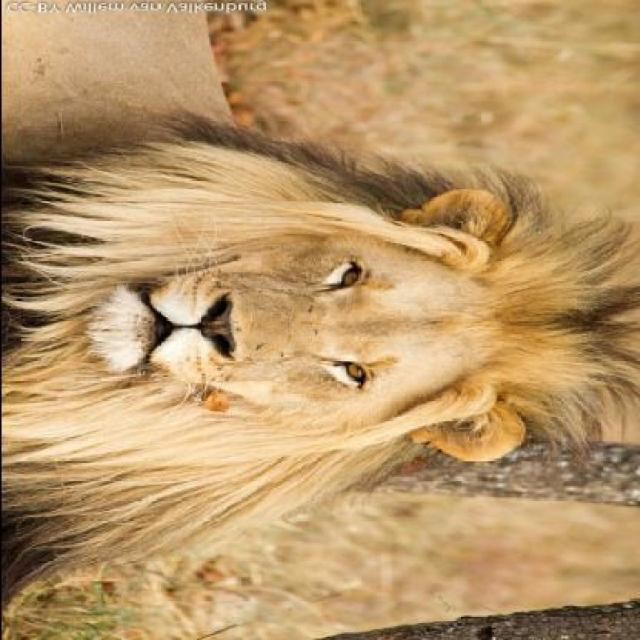Lion: (1, 96, 634, 584)
